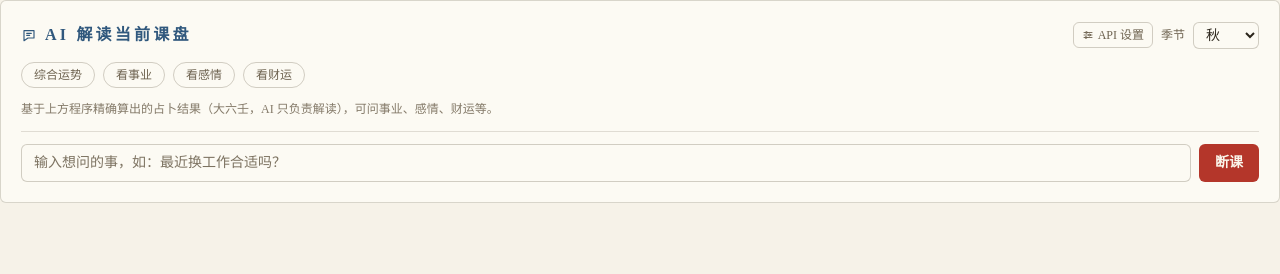
Test: AiDuanke SSR 流式断课 › 上游错误时展示错误信息
The image size is (1280, 274).
What coordinates should you click on to do the following:
click the button "综合运势"
I would click on:
 (58, 75)
Its box is x1=21 y1=62 x2=95 y2=88.
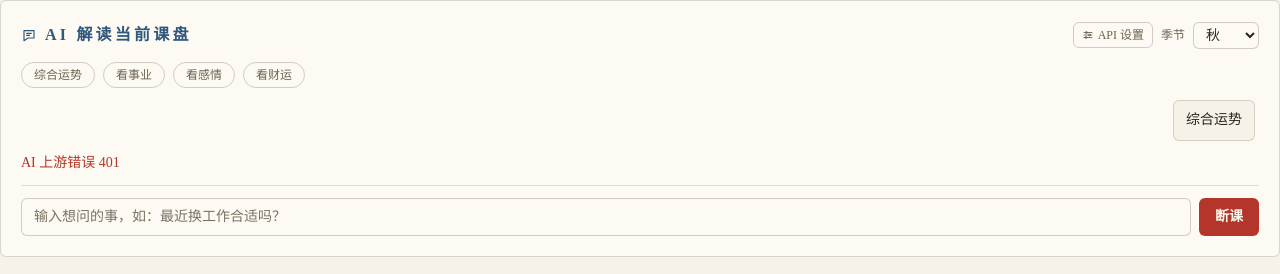
Expected: the text "AI 上游错误 401" is shown, x1=21 y1=154 x2=120 y2=170
